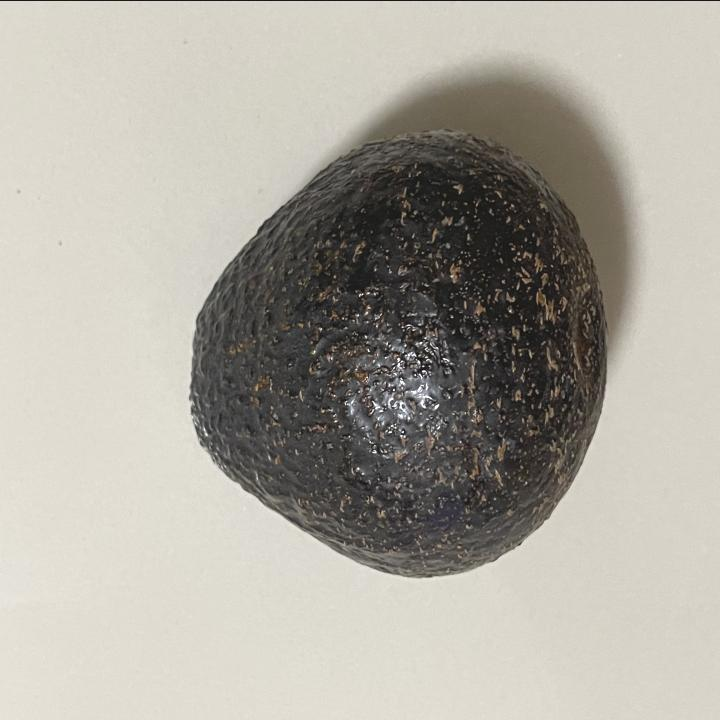Level3: (181, 116, 612, 586)
